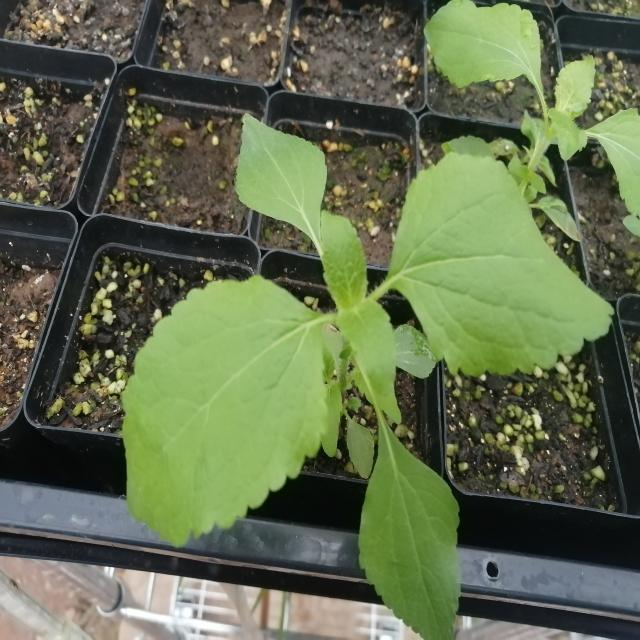billygoat_weed: (134, 115, 581, 609)
